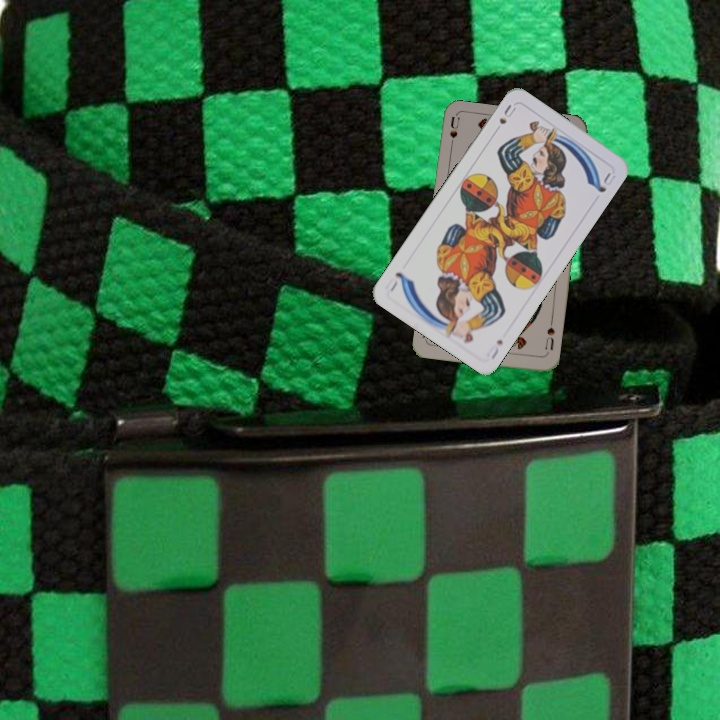SU: (540, 317, 557, 358), (446, 114, 462, 155), (495, 100, 519, 127), (482, 335, 505, 362)
